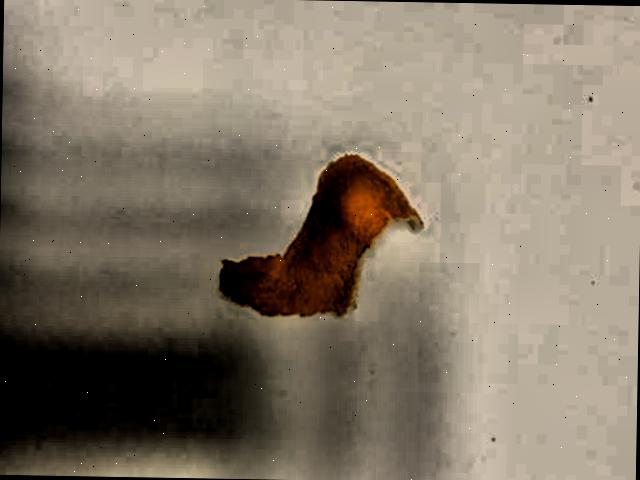Almennt: (195, 136, 442, 354)
